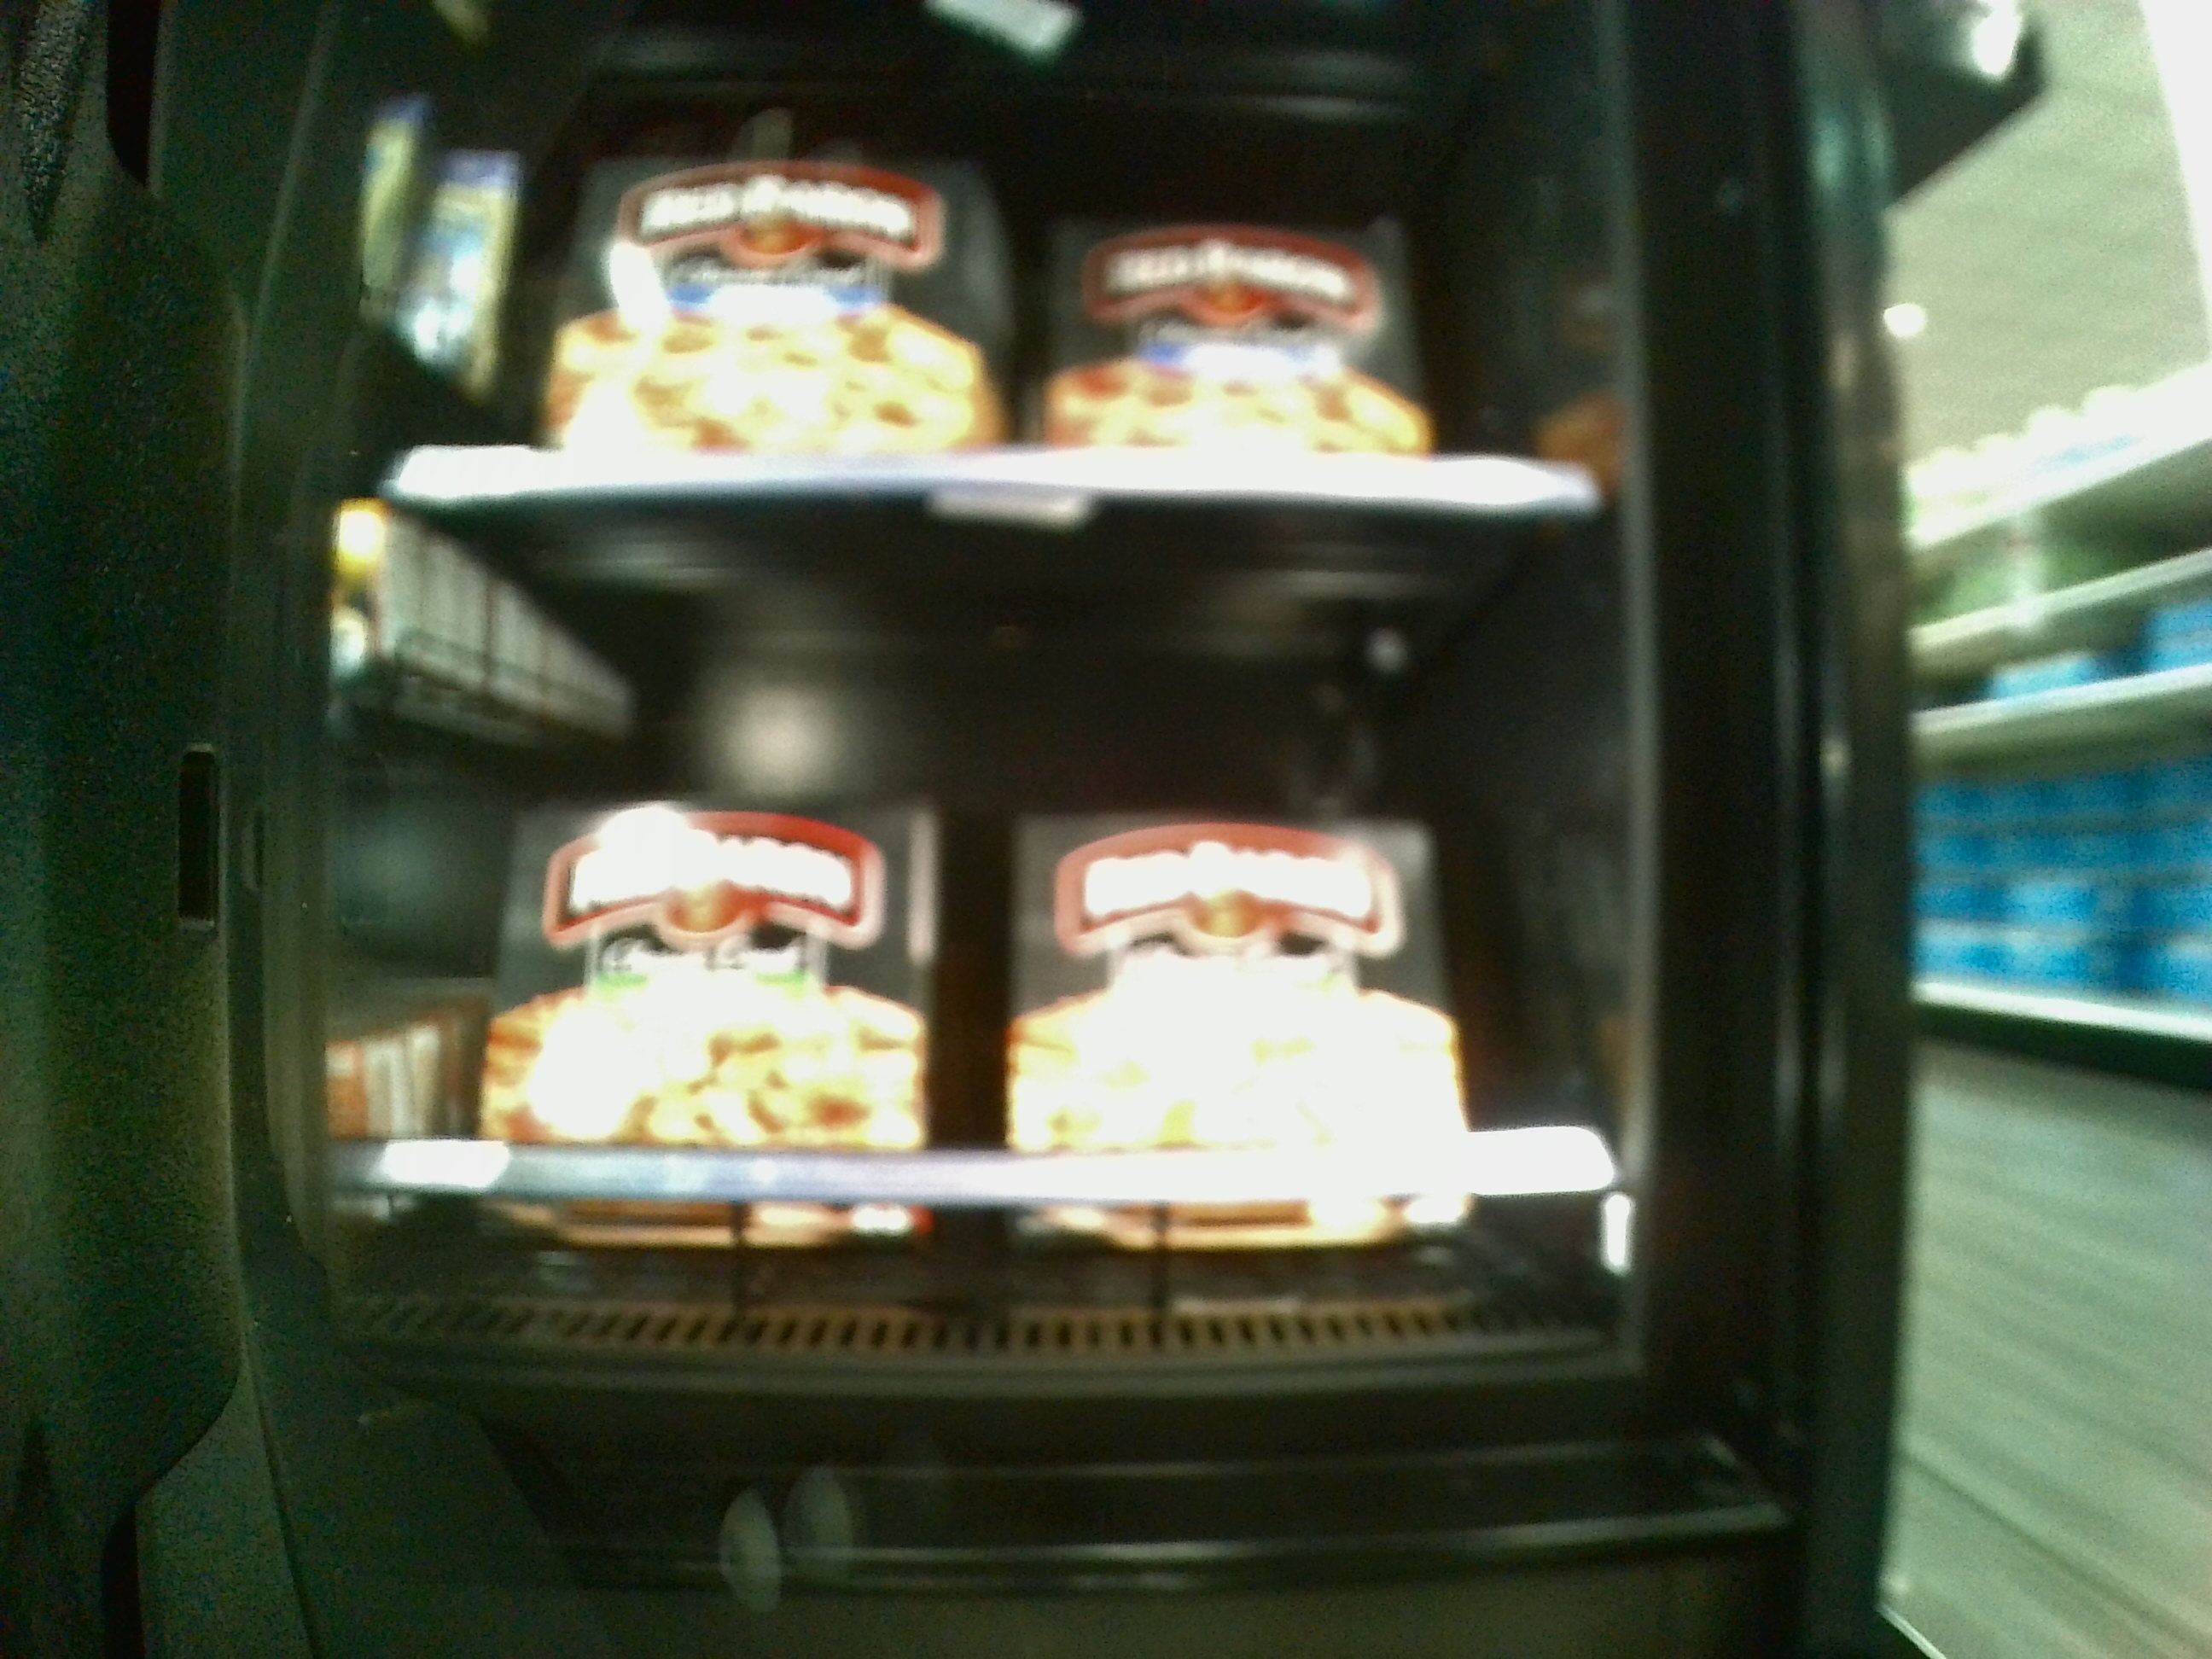shelf: (387, 497, 1629, 1328), (387, 0, 1601, 505)
